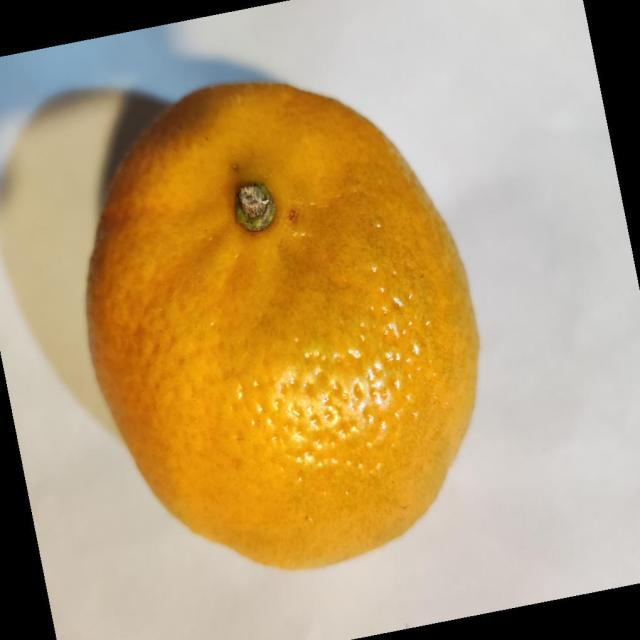fresh orange: (84, 80, 481, 570)
